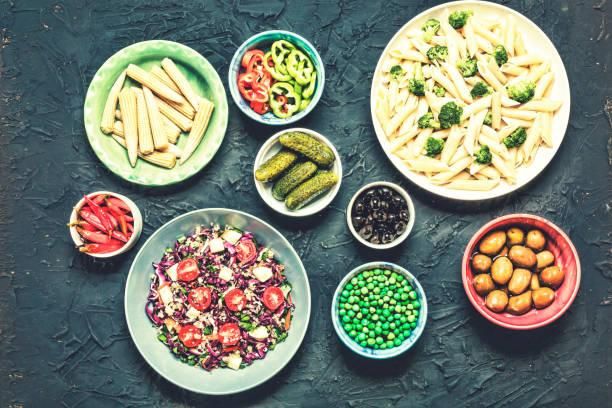Braised Crucian Carp: (371, 1, 570, 202), (122, 206, 312, 399), (82, 39, 228, 190), (461, 213, 582, 329)
